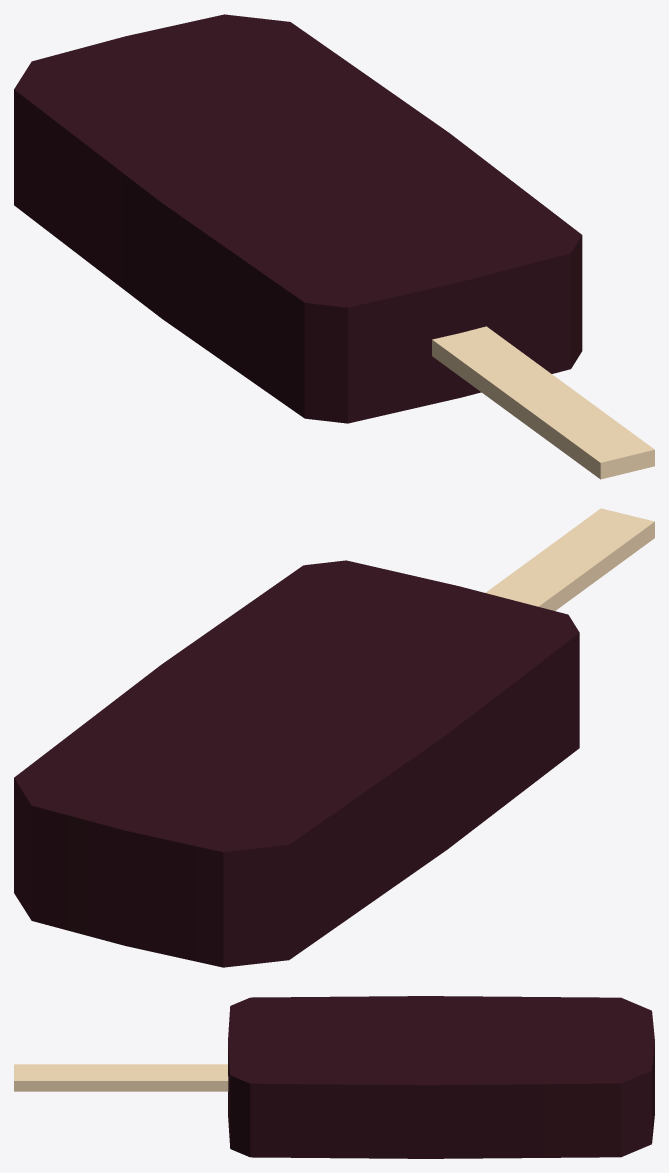
Rendered from IceCream.fbx.
3 renders of one model, top to bottom at view 1: azimuth 30°, elevation 25°; view 2: azimuth 150°, elevation 25°; view 3: azimuth 270°, elevation 25°, orthographic. The views are drawn at different scales.
Parts seen in each view (by area): view 1: IceCream; view 2: IceCream; view 3: IceCream.
Boxes of the visible parts, <box> form: IceCream: <box>14,14,654,479</box>; IceCream: <box>14,508,654,967</box>; IceCream: <box>14,996,654,1158</box>.
Size of the model in its own units: 68.68 by 26.46 by 208.
